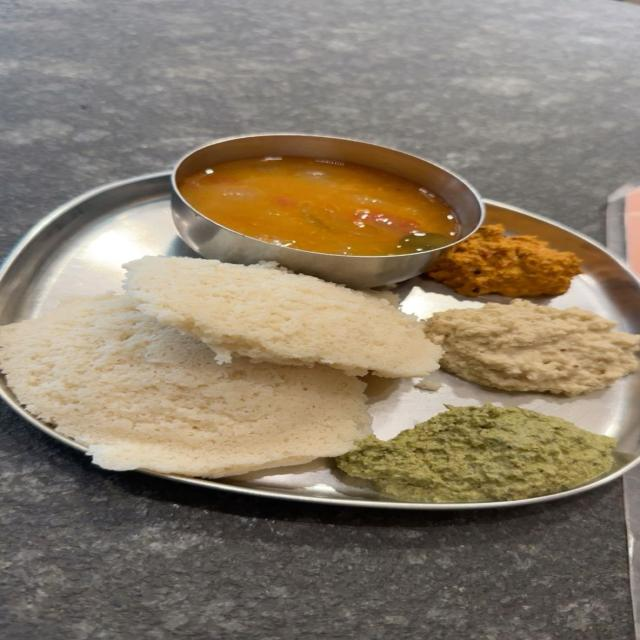chutney: (361, 409, 631, 499), (424, 295, 640, 400), (428, 216, 605, 295)
idly: (4, 293, 361, 467), (131, 242, 453, 382)
sambar curry: (173, 136, 475, 256)
